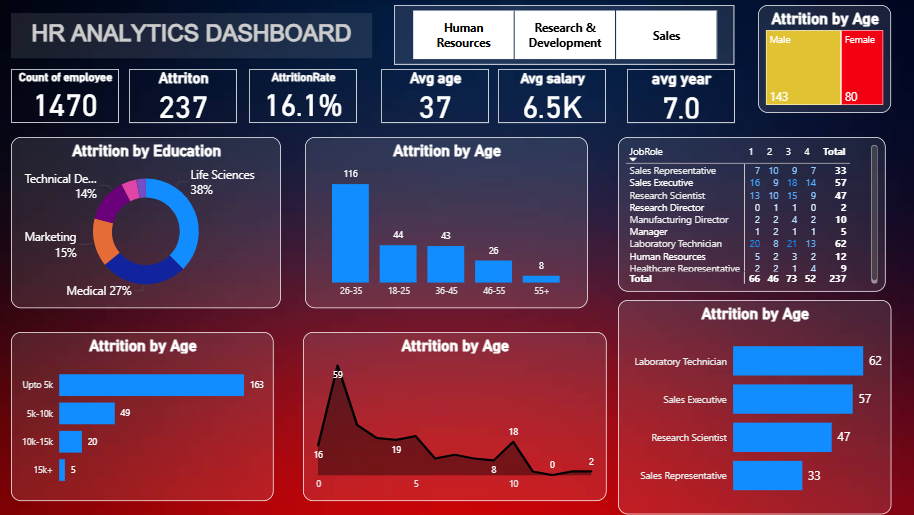

What the dashboard file says about the page in this screenshot:
{"tool":"powerbi","page":{"name":"Page 1","canvas":[1280,720],"ordinal":0},"visuals":[{"type":"card","title":"Count of employee","fields":{"Values":["CountNonNull(HR_Analytics.EmpID)"]},"box":[20,96.7,150,75],"z":0},{"type":"card","title":"Avg age","fields":{"Values":["Avg(HR_Analytics.Age)"]},"box":[533.3,96.7,150,75],"z":1000},{"type":"card","title":"Attriton","fields":{"Values":["Sum(HR_Analytics.Attritioncount)"]},"box":[183.3,96.7,150,75],"z":2000},{"type":"card","title":"AttritionRate","fields":{"Values":["HR_Analytics.AttritionRate1"]},"box":[350,96.7,150,75],"z":3000},{"type":"card","title":"Avg salary","fields":{"Values":["Avg(HR_Analytics.MonthlyIncome)"]},"box":[696.7,96.7,150,75],"z":4000},{"type":"card","title":"avg year","fields":{"Values":["Avg(HR_Analytics.YearsAtCompany)"]},"box":[875,96.7,150,75],"z":5000},{"type":"donutChart","title":"Attrition by Education","fields":{"Category":["HR_Analytics.EducationField"],"Y":["Sum(HR_Analytics.Attritioncount)"]},"box":[20,191.7,375,238.3],"z":6000},{"type":"columnChart","title":"Attrition by Age","fields":{"Category":["HR_Analytics.AgeGroup"],"Y":["Sum(HR_Analytics.Attritioncount)"]},"box":[428.3,191.7,393.3,238.3],"z":7000},{"type":"pivotTable","fields":{"Rows":["HR_Analytics.JobRole"],"Columns":["HR_Analytics.JobSatisfaction"],"Values":["Sum(HR_Analytics.Attritioncount)"]},"box":[863.3,191.7,371.7,215],"z":8000},{"type":"barChart","title":"Attrition by Age","fields":{"Category":["HR_Analytics.SalarySlab"],"Y":["Sum(HR_Analytics.Attritioncount)"]},"box":[20,463.3,365,235],"z":9000},{"type":"barChart","title":"Attrition by Age","fields":{"Category":["HR_Analytics.JobRole"],"Y":["Sum(HR_Analytics.Attritioncount)"]},"box":[863.3,418.3,380,298.3],"z":10000},{"type":"areaChart","title":"Attrition by Age","fields":{"Category":["HR_Analytics.YearsAtCompany"],"Y":["Sum(HR_Analytics.Attritioncount)"]},"box":[425,463.3,421.7,235],"z":11000},{"type":"treemap","title":"Attrition by Age","fields":{"Group":["HR_Analytics.Gender"],"Values":["Sum(HR_Analytics.Attritioncount)"]},"box":[1058.3,8.3,185,150],"z":12000},{"type":"slicer","fields":{"Values":["HR_Analytics.Department"]},"box":[551.7,8.3,473.3,83.3],"z":13000},{"type":"textbox","box":[20,20,501.7,63.3],"z":14000}]}

Visuals, with their boxes in screenshot pixels (x1, y1, x2, y2), scaled from the page's 1280x720 canvas onto the 914x515 screenshot:
"Count of employee" card: left=14, top=69, right=121, bottom=123
"Avg age" card: left=381, top=69, right=488, bottom=123
"Attriton" card: left=131, top=69, right=238, bottom=123
"AttritionRate" card: left=250, top=69, right=357, bottom=123
"Avg salary" card: left=497, top=69, right=605, bottom=123
"avg year" card: left=625, top=69, right=732, bottom=123
"Attrition by Education" donutChart: left=14, top=137, right=282, bottom=308
"Attrition by Age" columnChart: left=306, top=137, right=587, bottom=308
pivotTable - HR_Analytics.JobRole x HR_Analytics.JobSatisfaction: left=616, top=137, right=882, bottom=291
"Attrition by Age" barChart: left=14, top=331, right=275, bottom=499
"Attrition by Age" barChart: left=616, top=299, right=888, bottom=513
"Attrition by Age" areaChart: left=303, top=331, right=605, bottom=499
"Attrition by Age" treemap: left=756, top=6, right=888, bottom=113
slicer - HR_Analytics.Department: left=394, top=6, right=732, bottom=66
textbox: left=14, top=14, right=373, bottom=60
